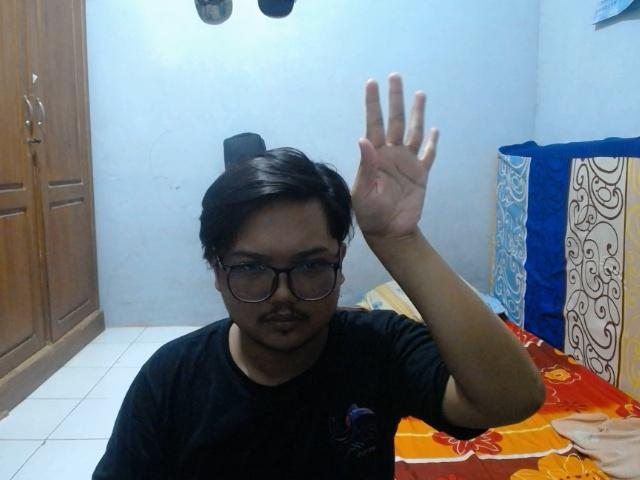Release: (353, 69, 442, 240)
